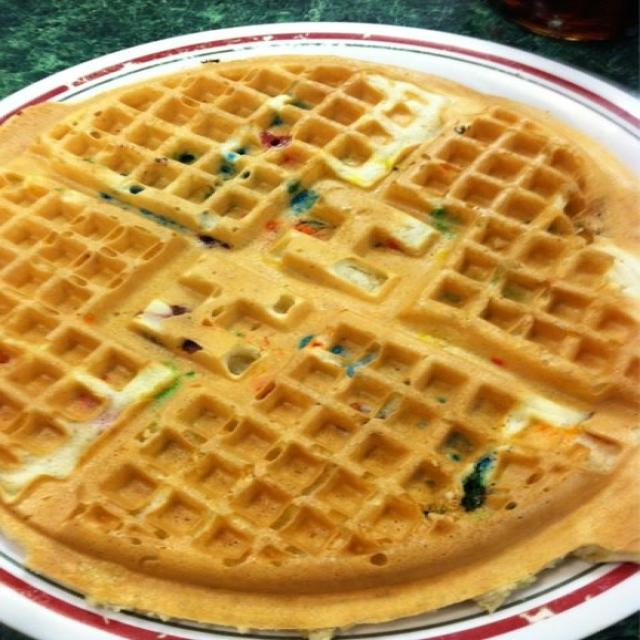炸货点心: (2, 27, 631, 626)
蛋糕甜品: (2, 27, 631, 626)
